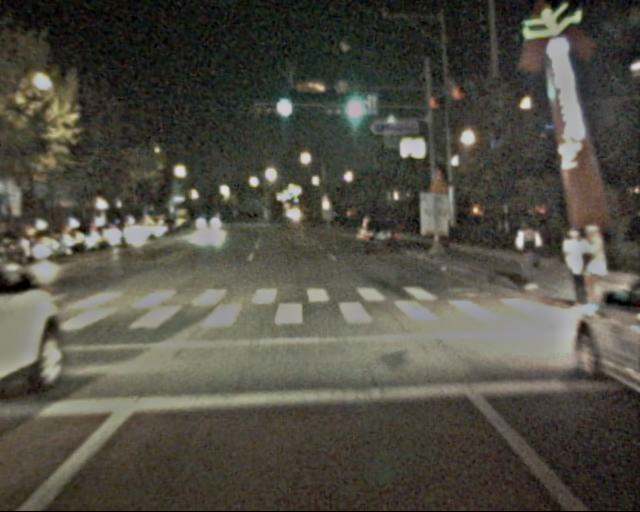person: (507, 218, 541, 302), (574, 221, 605, 309), (553, 226, 586, 306)
